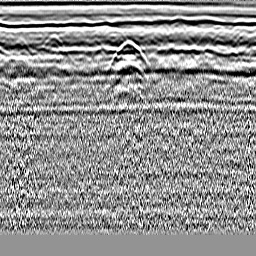cavity: (109, 38, 145, 66)
